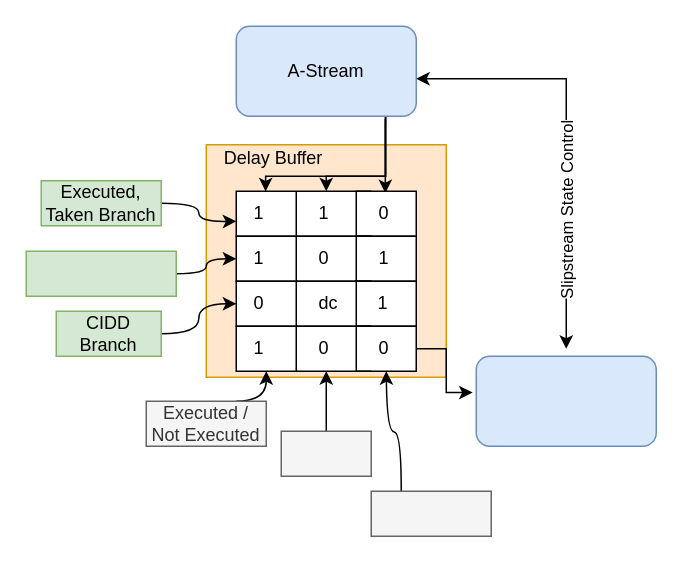
Image size: 683x563. Some labels were removed from this diagram. Each missing label, with the centre of its shape:
CD Region Skipped: point 430,513
Pre-Executed, Not-Taken Branch: point 100,273
R-Stream: point 565,400
Taken / Not Taken: point 325,453
